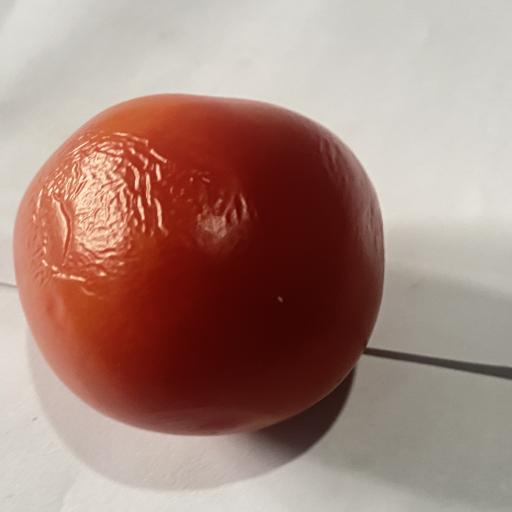spoiled: (13, 94, 384, 435)
